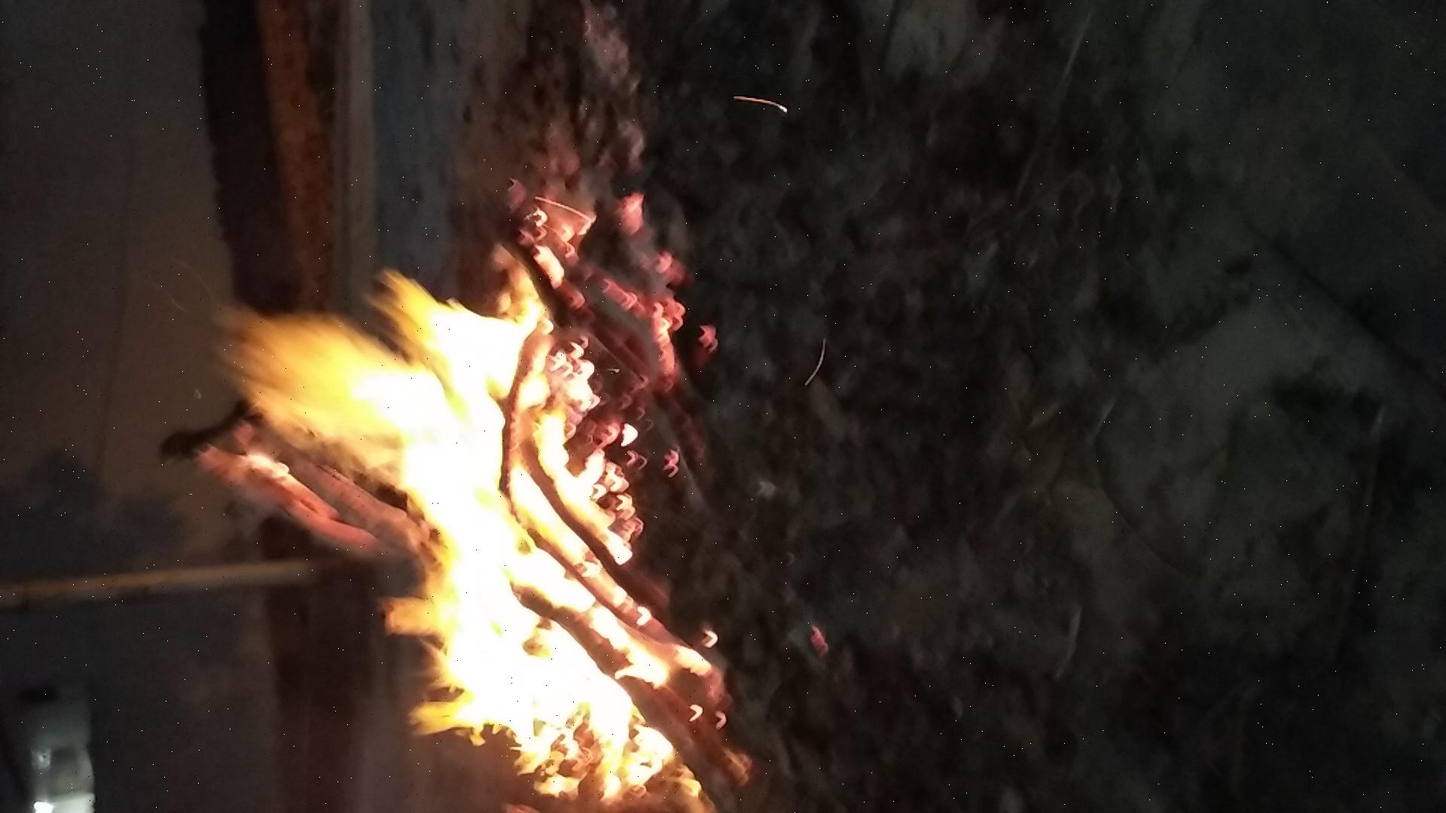fire: (9, 80, 975, 394)
